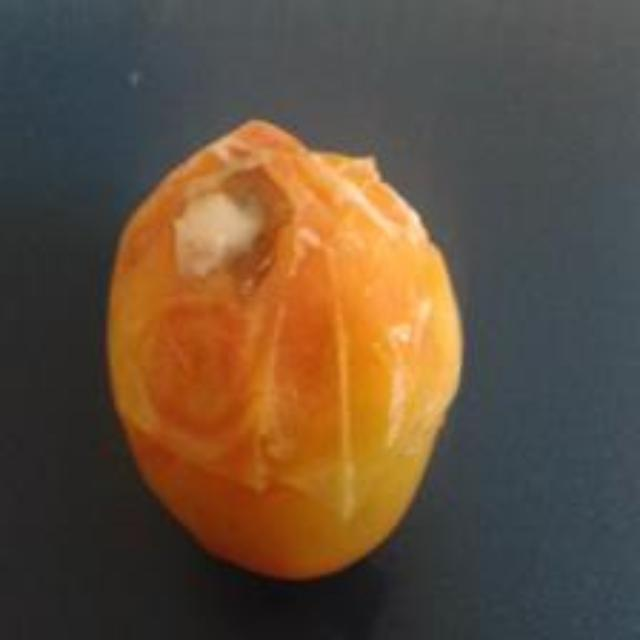defect: (93, 99, 470, 596)
